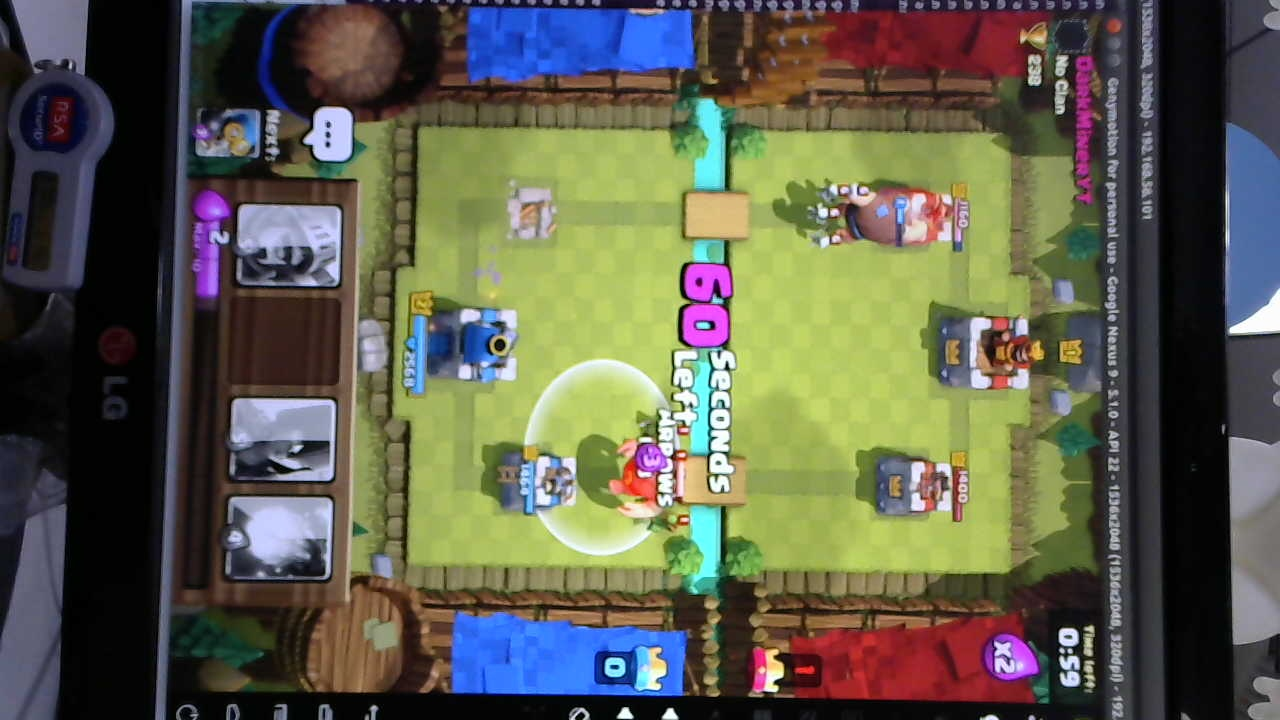arena: (514, 454, 578, 510)
darena: (504, 181, 562, 251)
earena: (873, 452, 953, 521), (868, 188, 950, 254)
eking: (941, 311, 1039, 395)
giant: (839, 183, 913, 250), (619, 436, 677, 519)
king: (423, 301, 525, 387)
